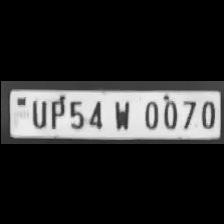0: (138, 96, 160, 130), (196, 97, 216, 128), (160, 96, 178, 130)
4: (84, 96, 106, 130)
5: (65, 96, 85, 130)
7: (178, 97, 196, 129)
P: (45, 96, 63, 128)
U: (26, 96, 48, 128)
W: (107, 96, 134, 130)
